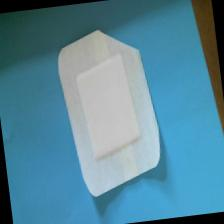Cut: (52, 20, 172, 203)
